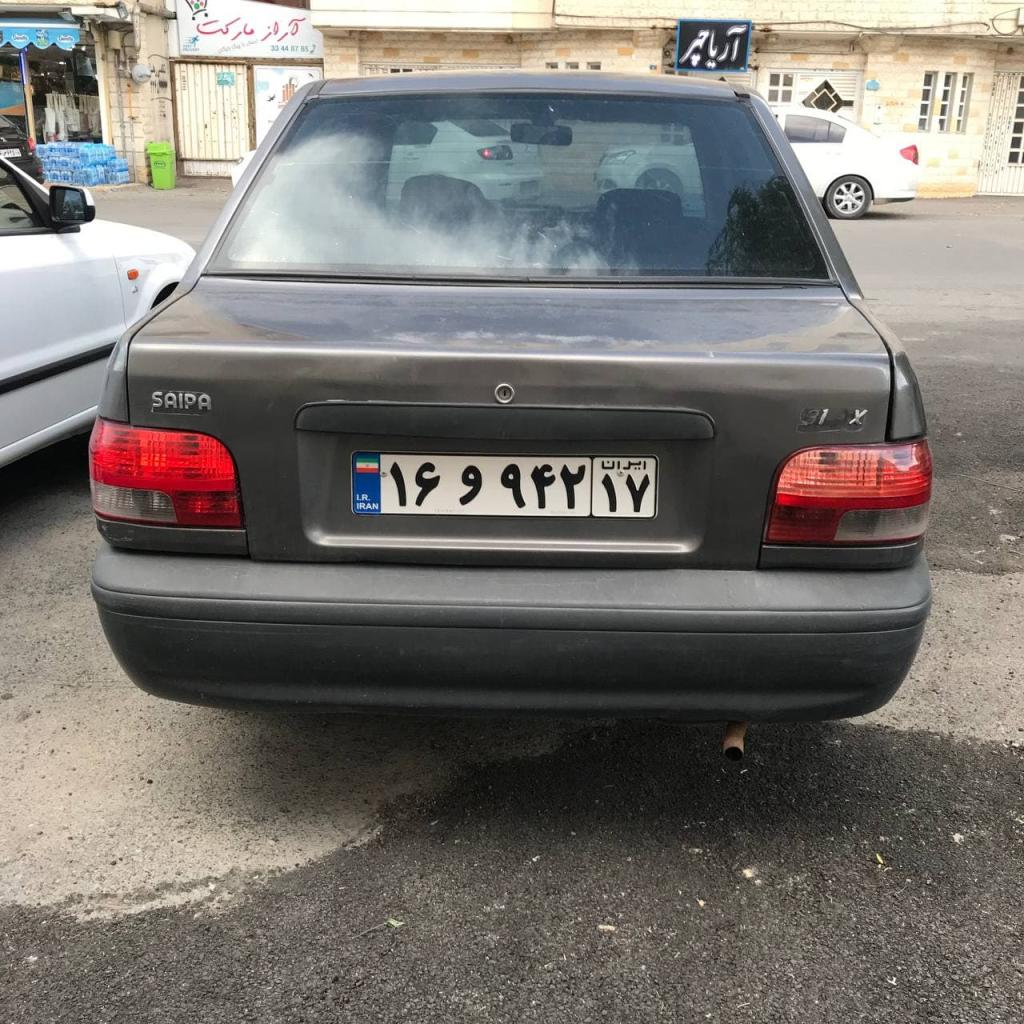Plates: (353, 452, 658, 517)
